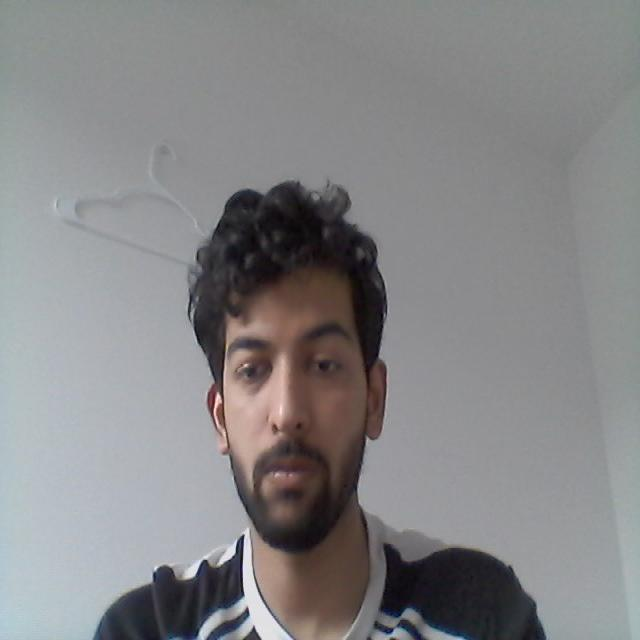nocap: (176, 164, 412, 367)
